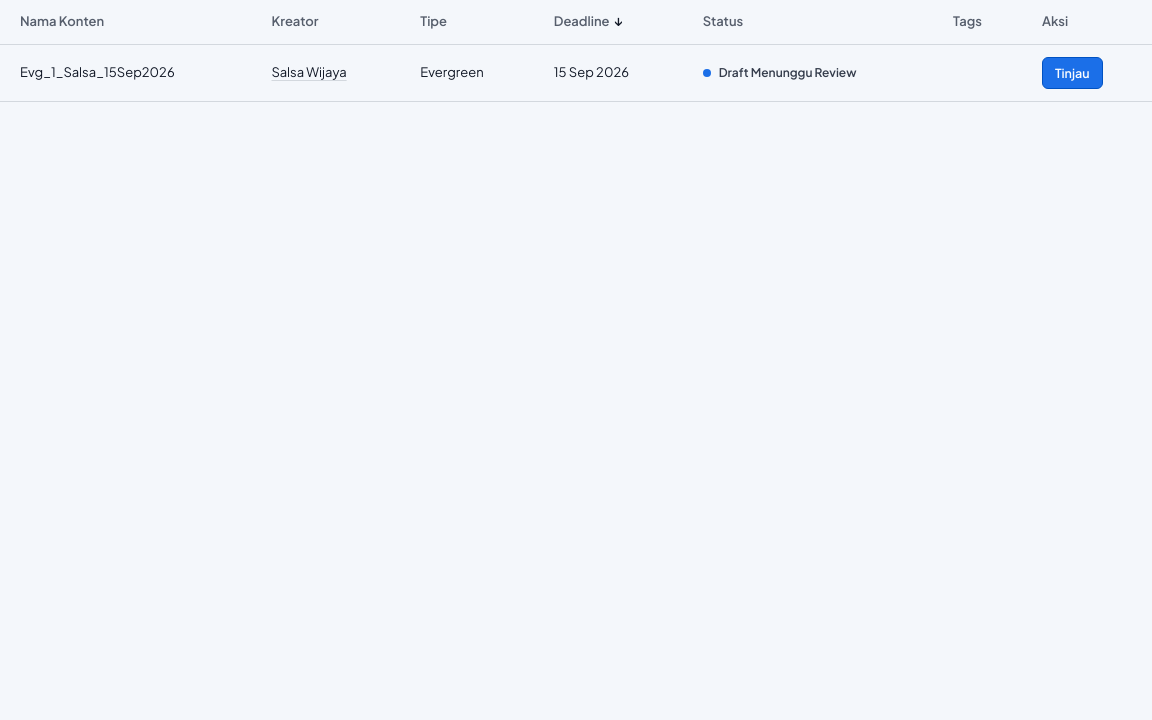
Test case: ContentPlanBoard › confirms a decision with a toast, closes the panel and refreshes the list
The image size is (1152, 720).
Click the button with aria-label "Tinjau Evg_1_Salsa_15Sep2026" at (1072, 73), box [1042,56,1103,89]
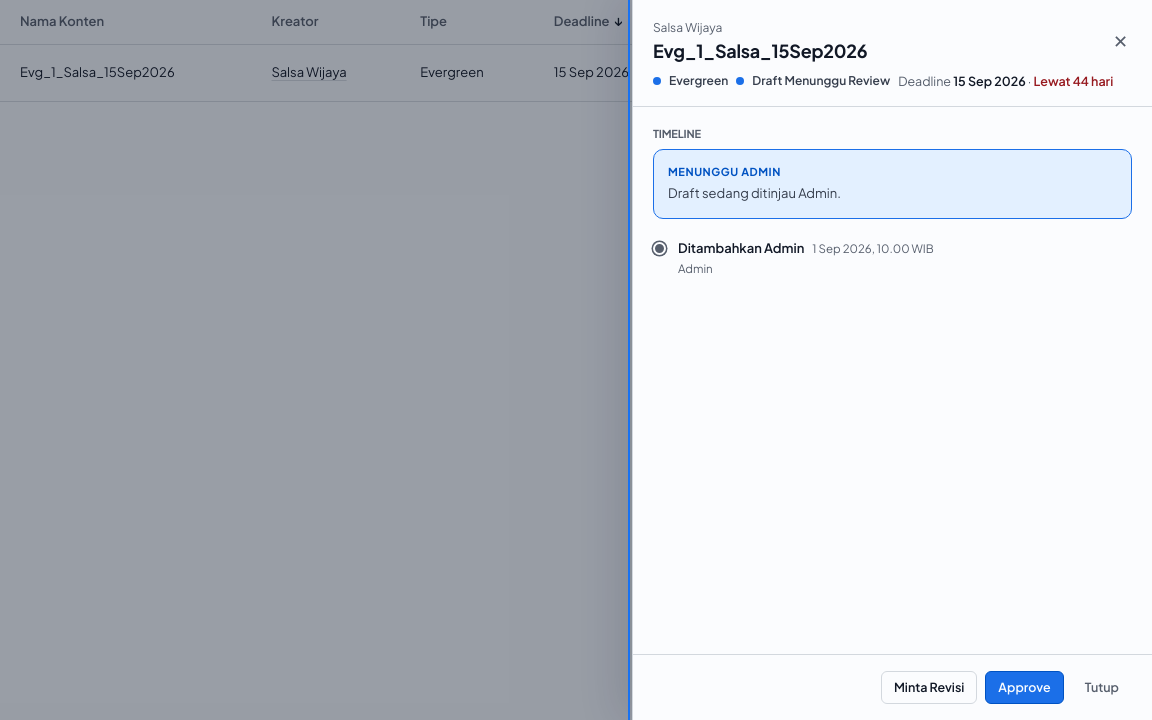
Click the button "Approve" at (1025, 688), box [985,671,1064,704]
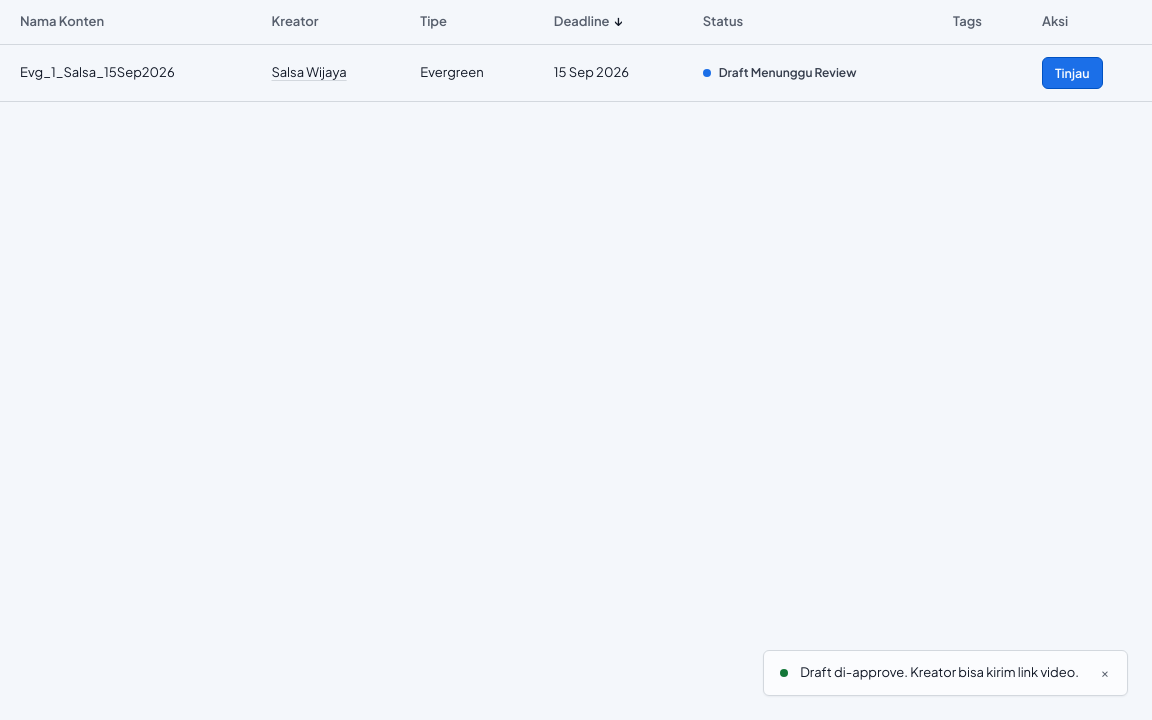
Expected: the dialog is gone
Expected: the message shows "Draft di-approve. Kreator bisa kirim link video.", [800,664,1079,680]
